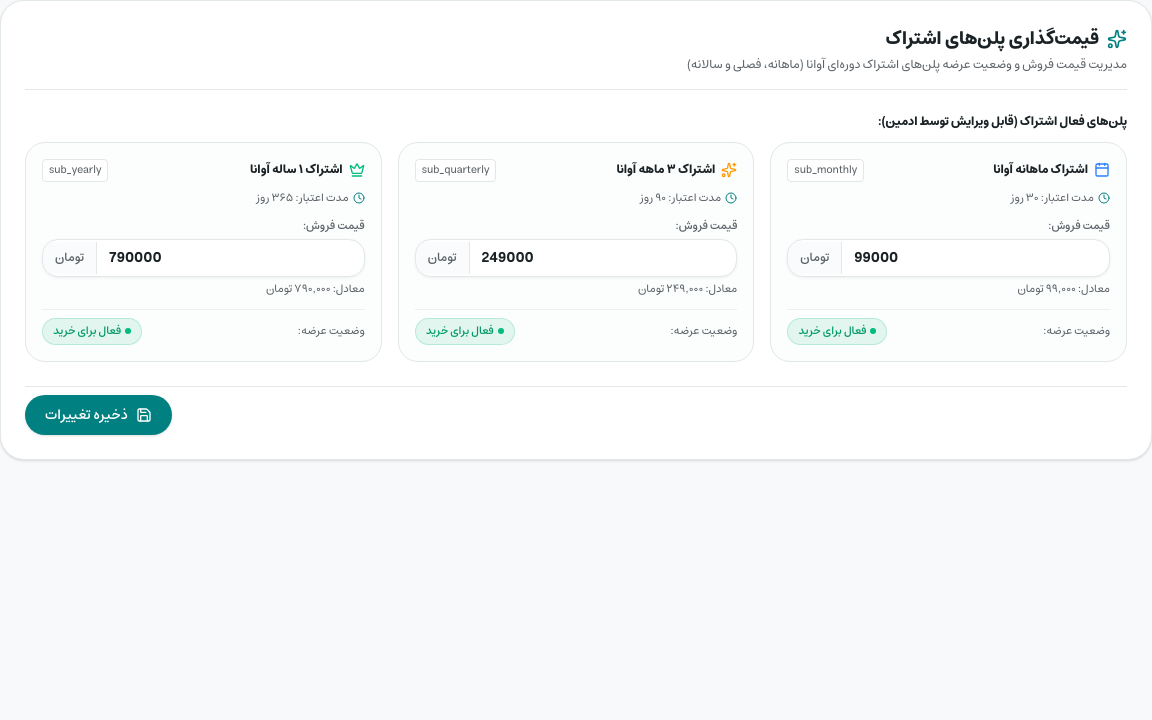
Admin Subscription & Special Exam Pricing UI Suite › 2. Allows editing subscription prices and validates input
Clear the number field named "قیمت اشتراک ماهانه آوانا" at [976, 258], box [842,240,1109,276]
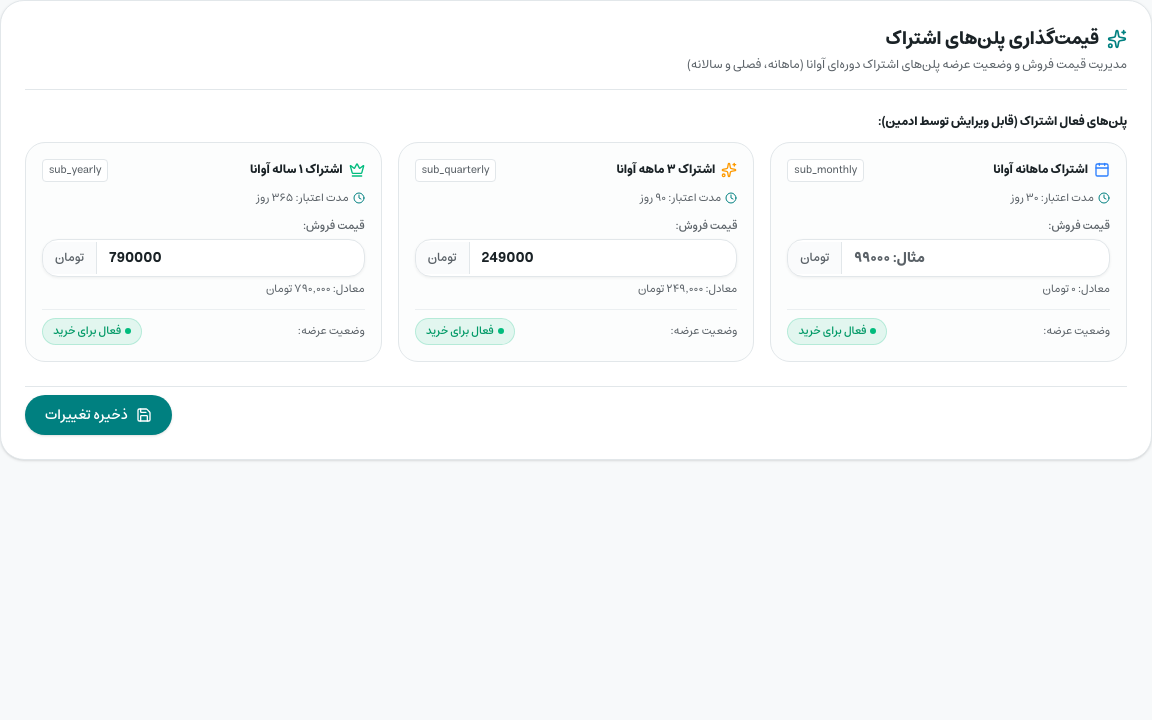
Click the button "ذخیره تغییرات" at [98, 414], box [25,394,172,434]
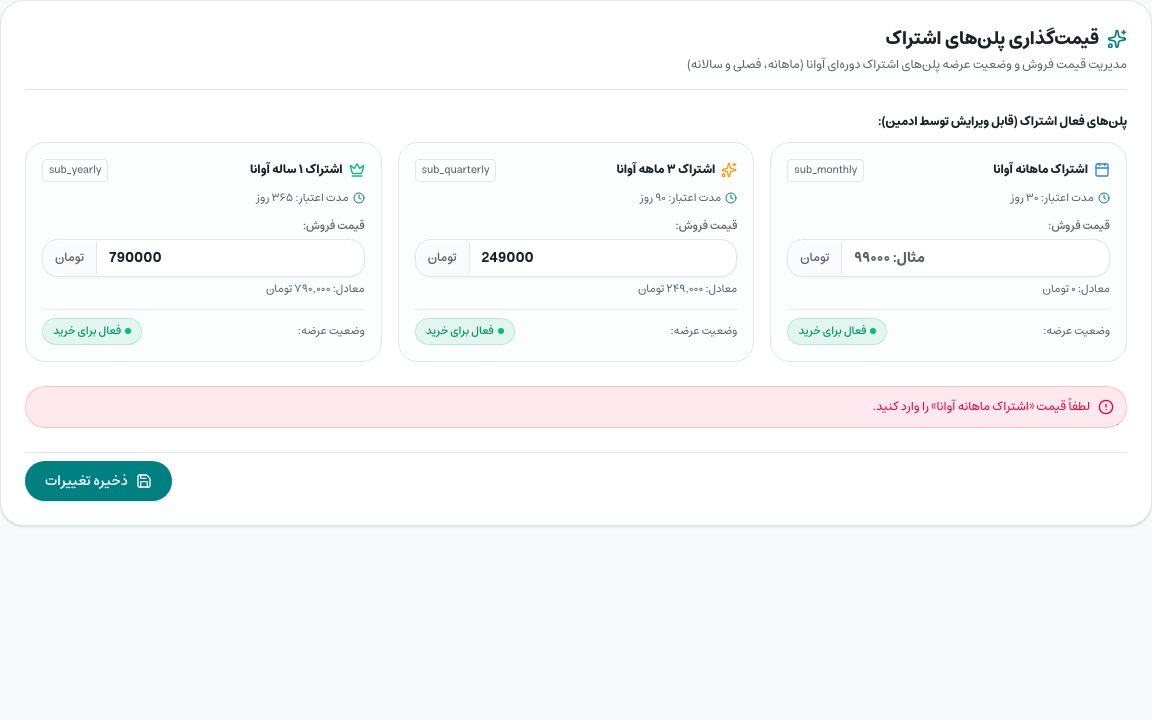
Now the text "لطفاً قیمت «اشتراک ماهانه آوانا» را وارد کنید." is shown, box [872,398,1090,414]
